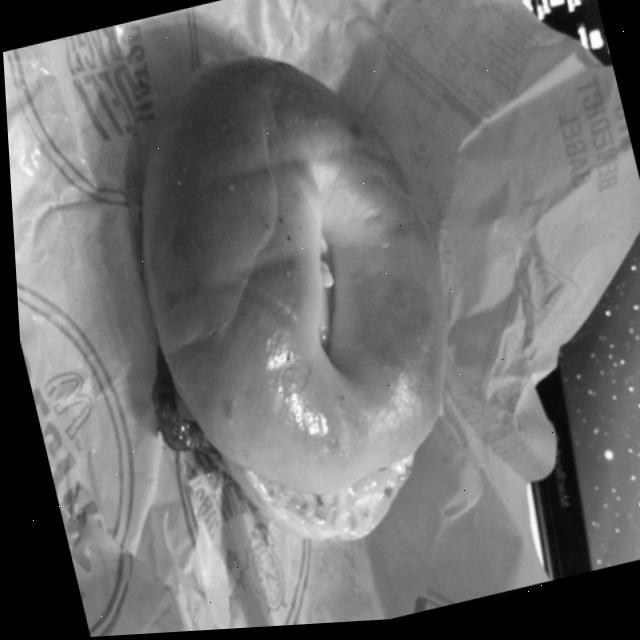面包点心: (33, 0, 534, 611)
